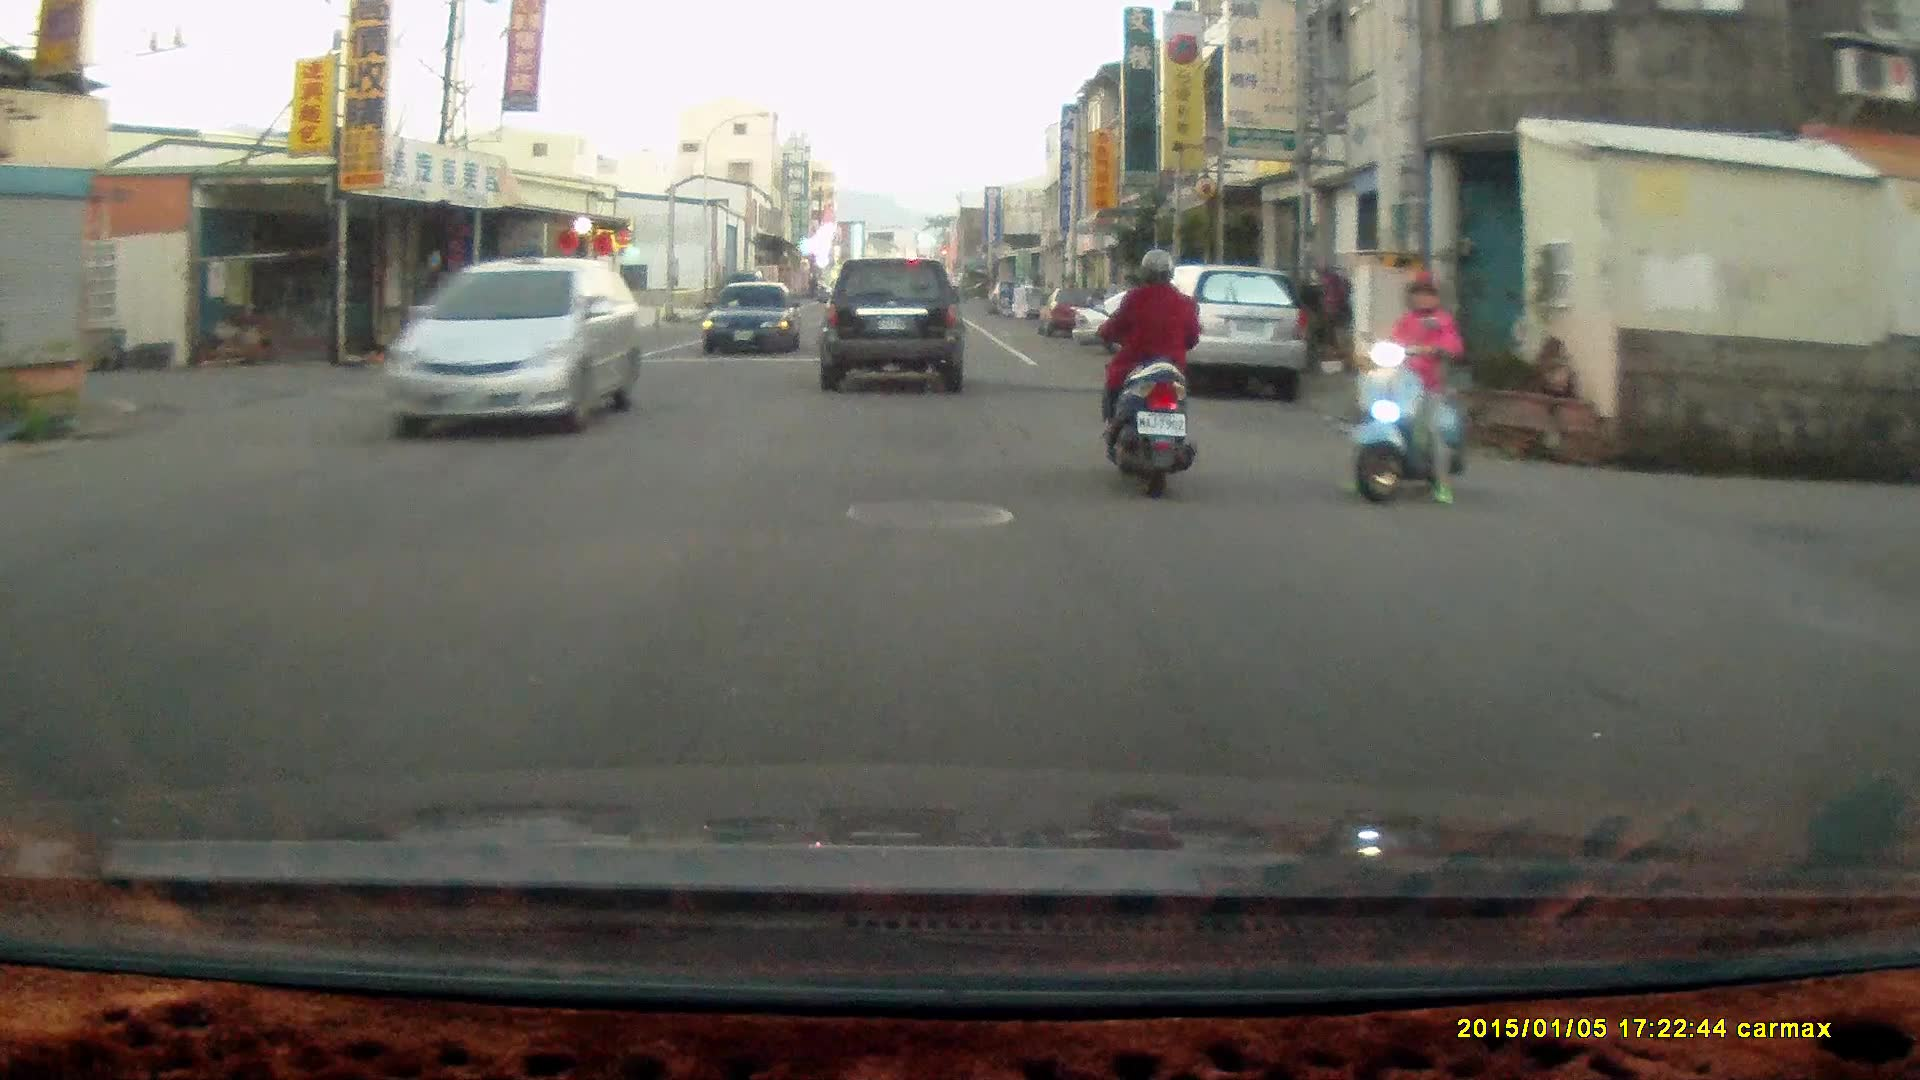rider: (1334, 268, 1464, 503), (1099, 245, 1197, 503)
vehicle: (386, 253, 645, 437), (1131, 264, 1309, 400), (818, 257, 966, 398), (1072, 283, 1252, 356), (708, 281, 803, 358)
